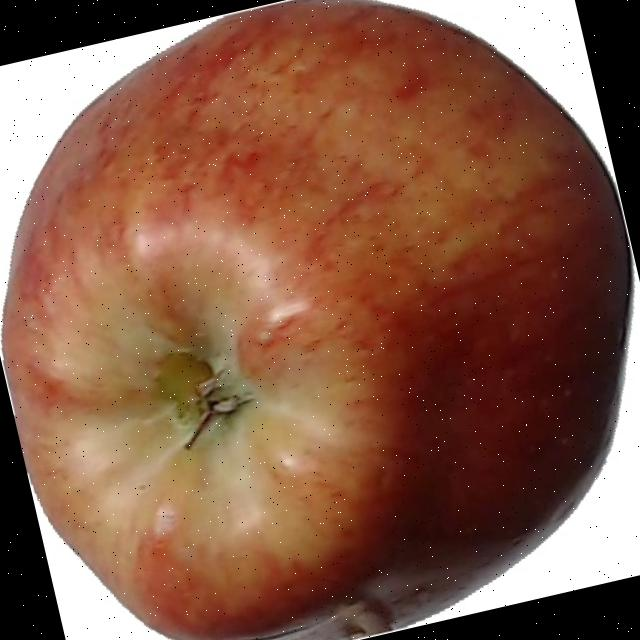apple: (2, 0, 631, 640)
